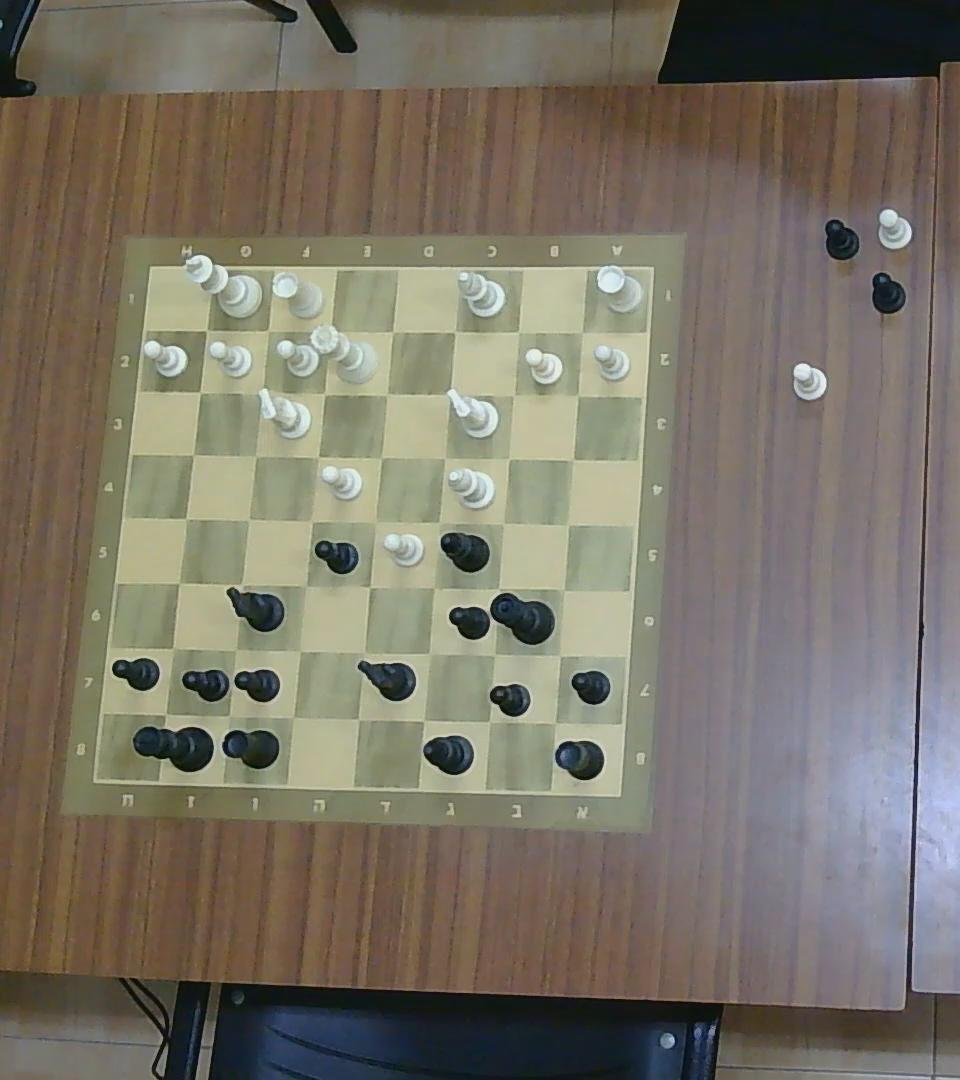xcorner: (215, 701, 242, 729), (280, 703, 305, 730), (477, 709, 503, 734), (153, 701, 178, 726), (161, 635, 185, 660), (349, 639, 374, 663), (412, 708, 436, 732), (288, 639, 311, 663), (167, 570, 190, 594), (346, 707, 370, 730), (229, 572, 253, 595), (224, 637, 246, 661), (363, 509, 385, 533), (542, 711, 566, 733), (318, 321, 341, 343), (438, 381, 459, 405), (175, 507, 197, 529), (182, 442, 204, 464), (359, 576, 381, 598), (245, 444, 267, 466), (422, 576, 444, 598), (237, 508, 258, 530), (195, 319, 216, 341), (483, 643, 504, 665), (301, 510, 321, 532), (295, 574, 315, 596), (493, 512, 513, 533), (563, 448, 583, 469), (428, 512, 448, 533), (370, 447, 390, 467), (258, 320, 278, 340), (383, 322, 403, 342), (420, 644, 440, 664), (252, 381, 272, 401), (499, 448, 518, 469), (376, 384, 395, 405), (445, 320, 464, 341), (504, 384, 523, 405), (435, 447, 454, 467), (559, 514, 578, 534), (190, 381, 209, 401), (308, 445, 327, 465), (549, 645, 569, 664), (488, 579, 508, 598), (510, 321, 529, 340), (568, 385, 587, 404), (315, 383, 333, 403), (573, 322, 591, 342), (555, 581, 573, 599)
